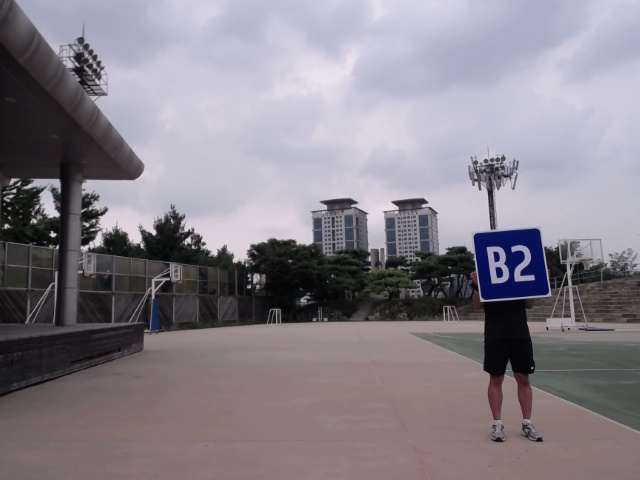delivery_b2: (469, 226, 553, 302)
